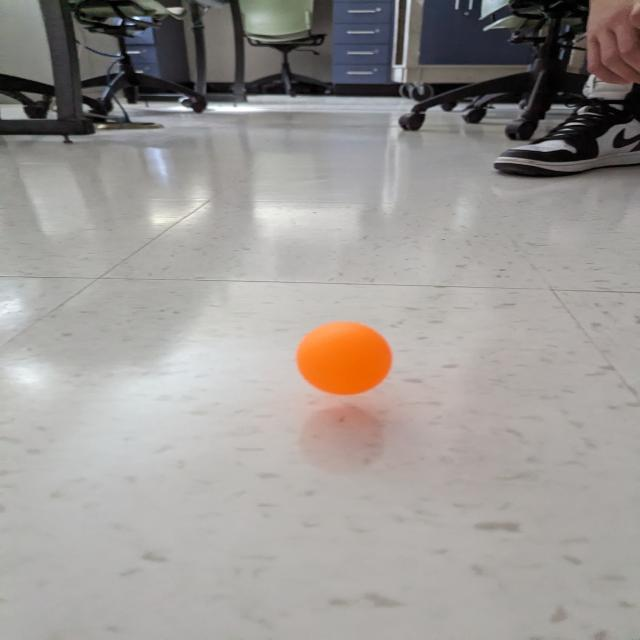ping-pong-ball: (291, 314, 398, 401)
